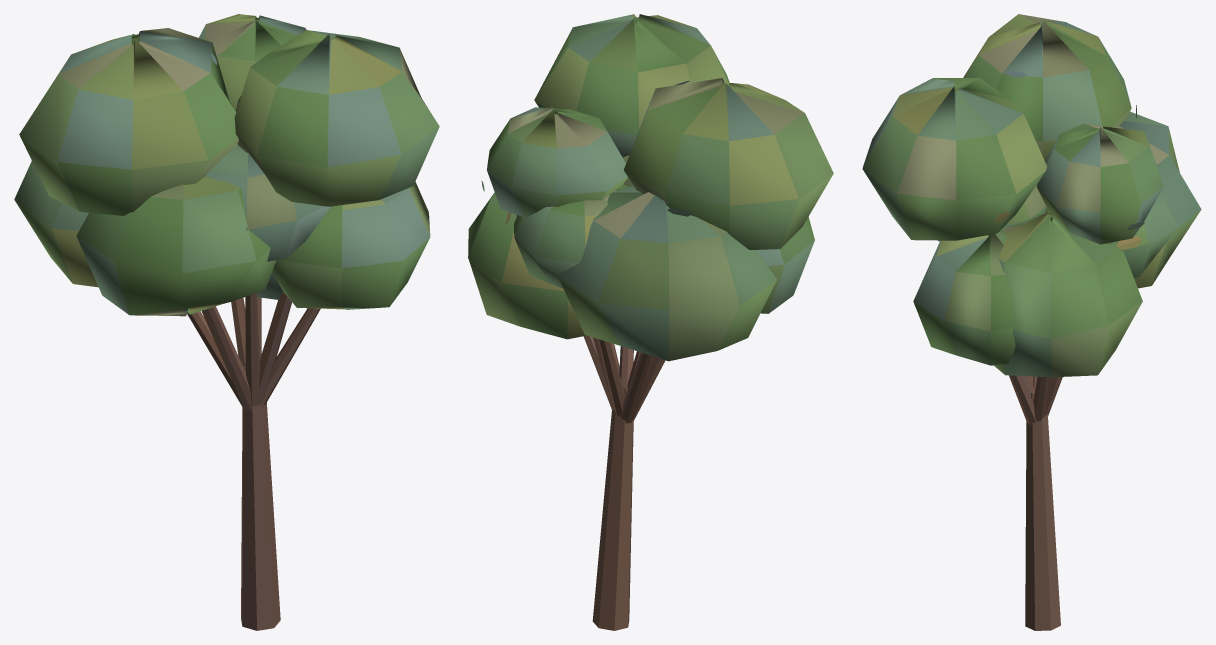
Rendered from HK_Tree_RoundLow.lod.glb.
The picture shows the model from 3 angles, left to right: view 1: azimuth 30°, elevation 25°; view 2: azimuth 150°, elevation 25°; view 3: azimuth 270°, elevation 25°; orthographic projection. The views are drawn at different scales.
Visible parts, largest first — view 1: HK_Tree_RoundLow; view 2: HK_Tree_RoundLow; view 3: HK_Tree_RoundLow.
Boxes of the visible parts, bbox=[...] form: HK_Tree_RoundLow: bbox=[14, 14, 439, 630]; HK_Tree_RoundLow: bbox=[468, 14, 833, 630]; HK_Tree_RoundLow: bbox=[862, 14, 1201, 630].
Size of the model in its own units: 4.58 by 7.31 by 4.06.
